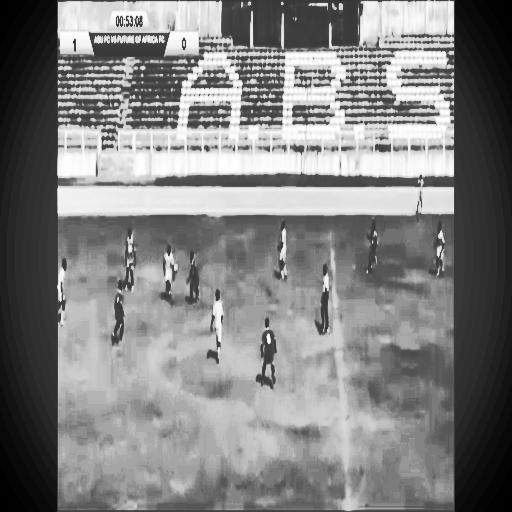ball: (174, 259, 180, 280)
referee: (316, 257, 334, 340)
team1: (430, 218, 448, 292), (272, 216, 290, 289), (208, 286, 224, 365), (158, 235, 176, 304), (57, 244, 70, 338)
team2: (258, 308, 279, 390), (121, 214, 139, 294), (111, 273, 129, 349), (186, 233, 202, 310), (360, 221, 380, 280)
